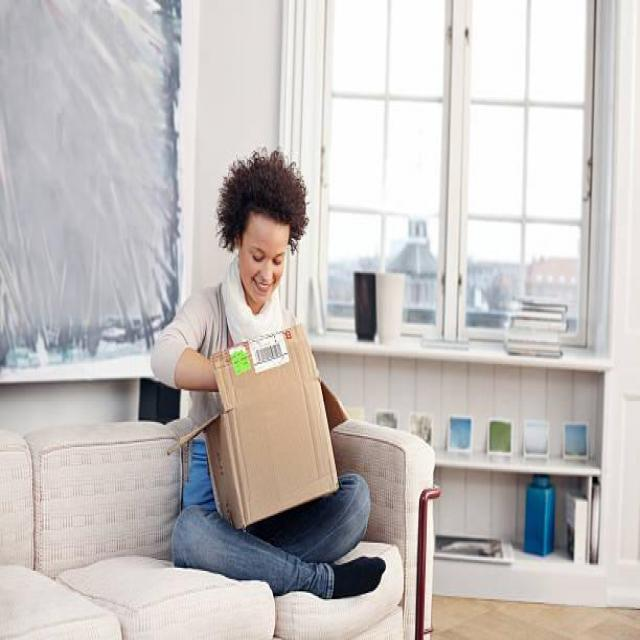box: (196, 324, 345, 551)
